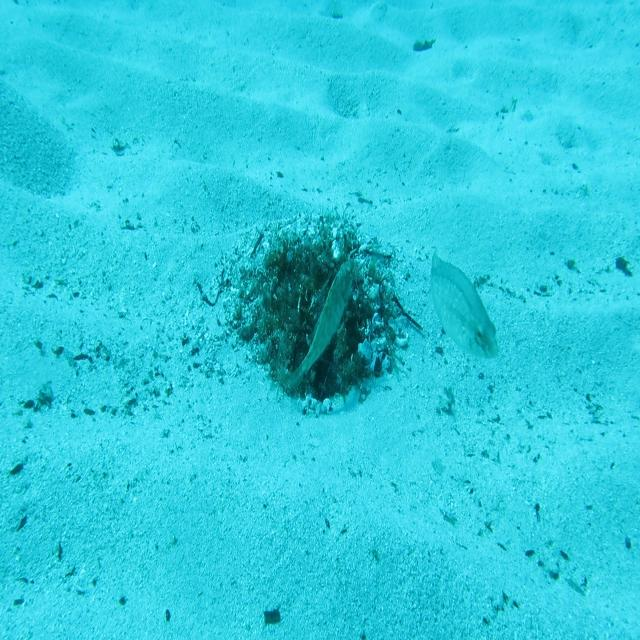FAN: (283, 254, 357, 399)
core_nest: (286, 255, 332, 289)
female: (429, 246, 500, 363)
nest: (218, 196, 416, 428)
vegetation: (614, 253, 634, 281), (411, 36, 436, 54), (264, 610, 283, 628)
